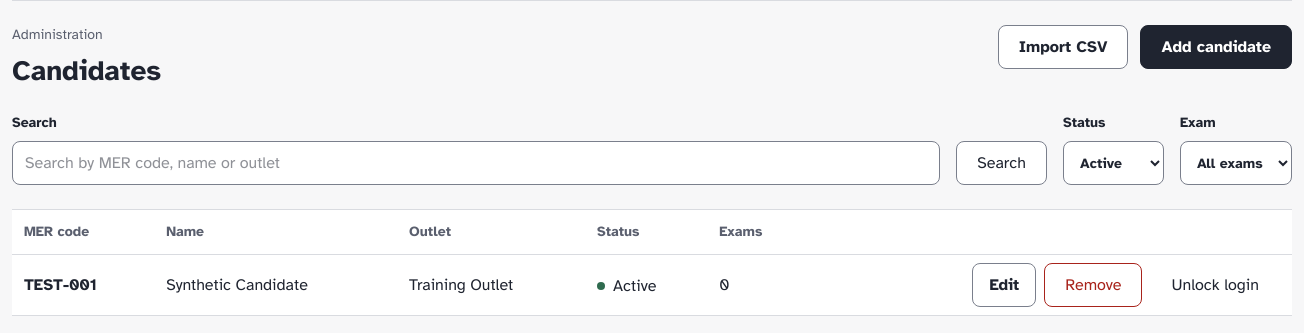
CandidateList › shows unlock failures as persistent toasts
The width and height of the screenshot is (1304, 333).
Check: the text "Synthetic Candidate" is shown, box [154,254,397,315]
Click the button "Unlock login": (1215, 285) [1150,263,1280,307]
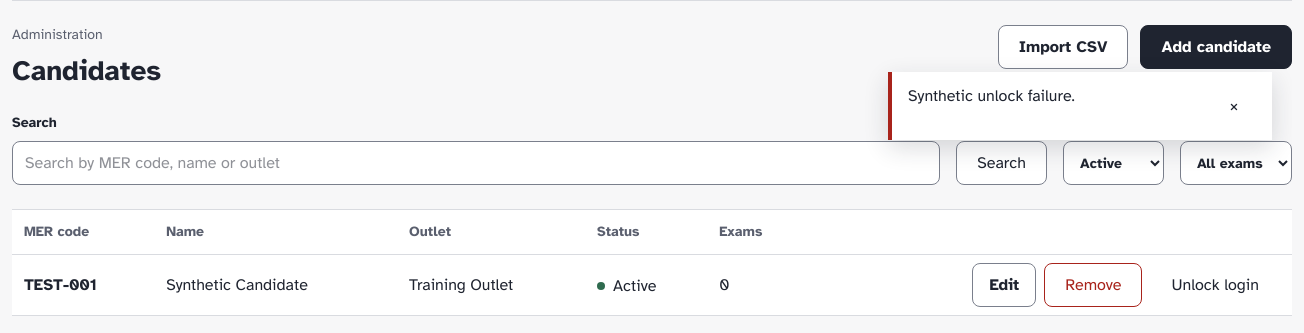
Check: the text "Synthetic unlock failure." is shown, box [908,84,1075,108]
